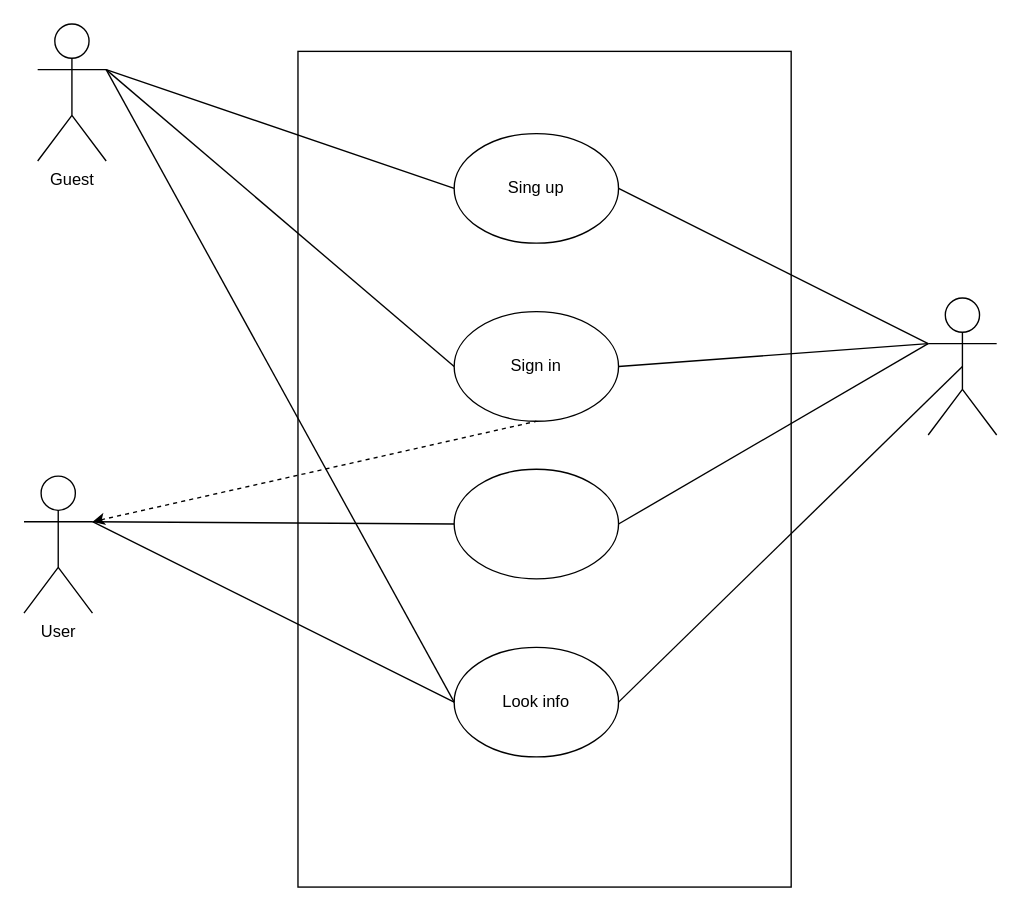
Image size: 1021x911. Some labels were removed from this diagram. The shapes that lost their labels are listed below. From the top down, each one's centre as x and y in pixels, then its label:
At point (962, 366): "Server".
At point (536, 523): "Logout".
